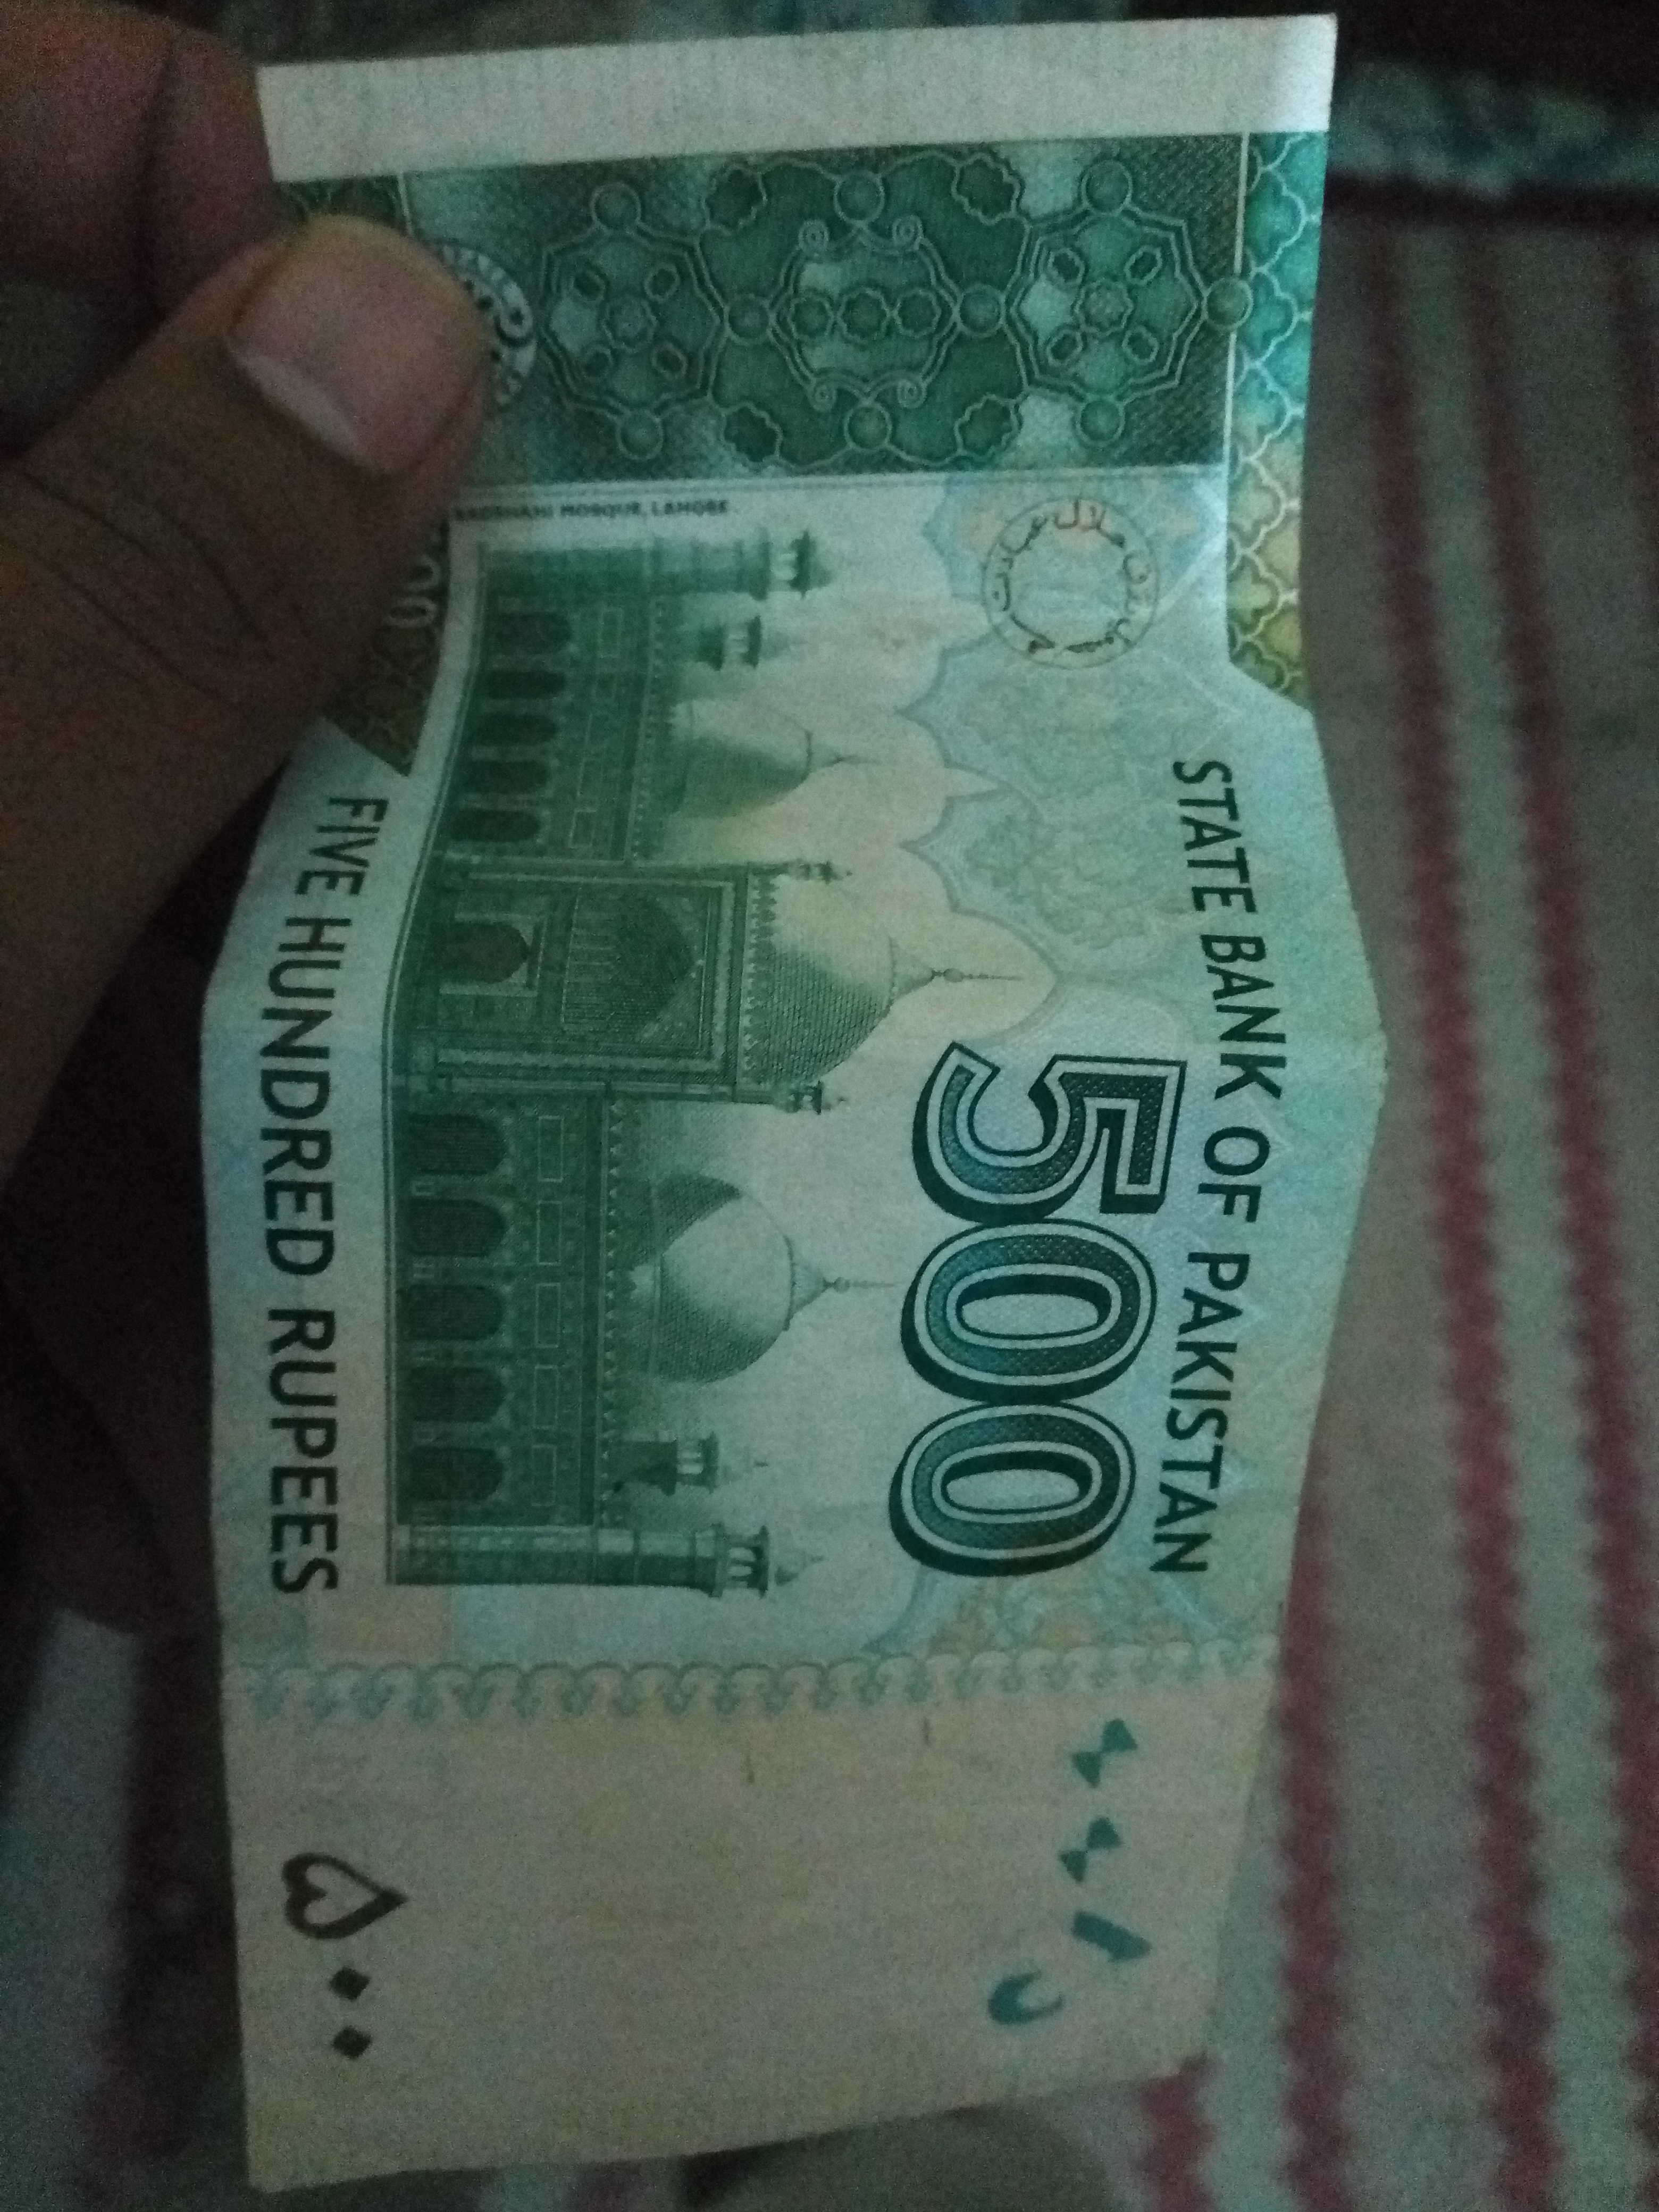500 rupee: (209, 23, 1436, 2203)
